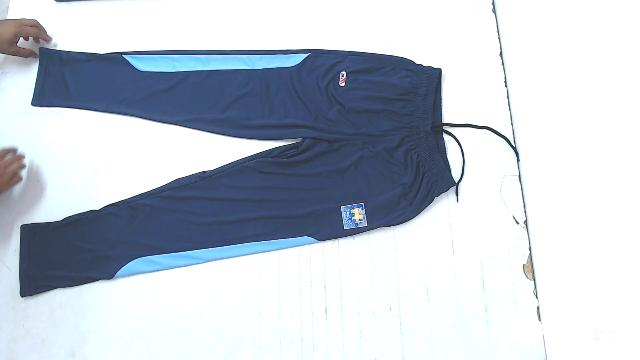new-garment: (20, 48, 514, 296)
